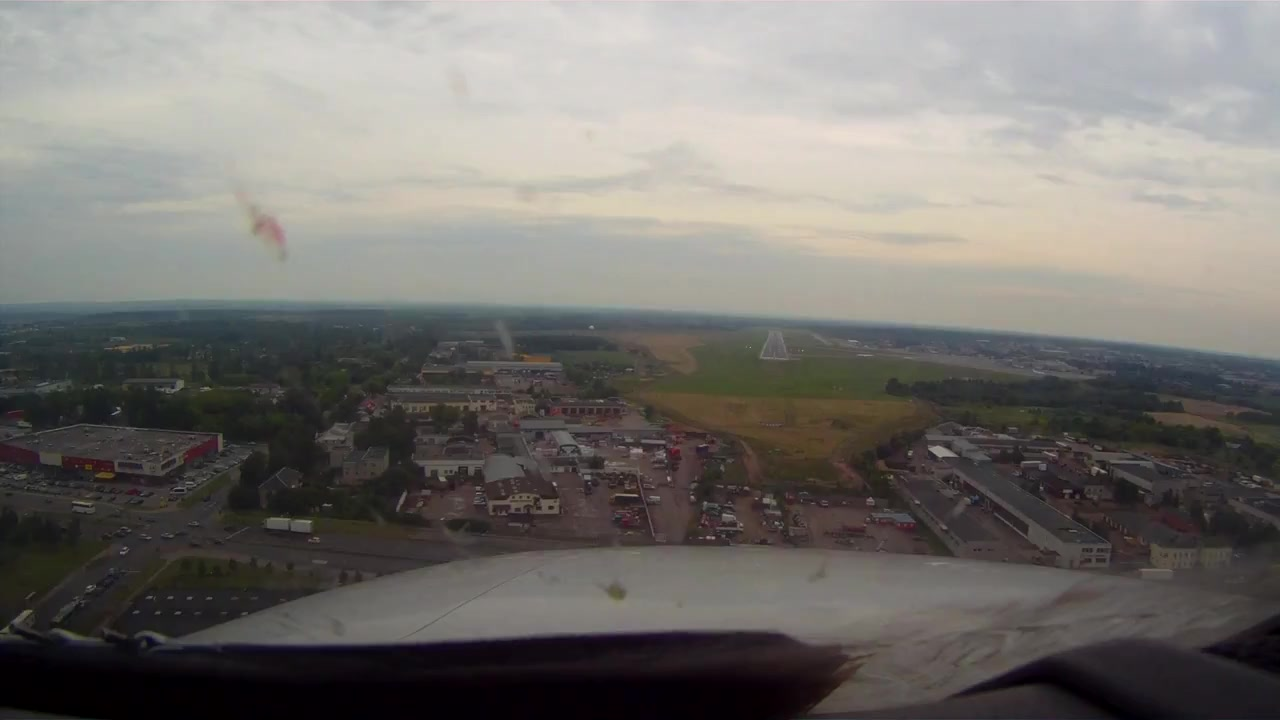runway: (758, 331, 787, 364)
